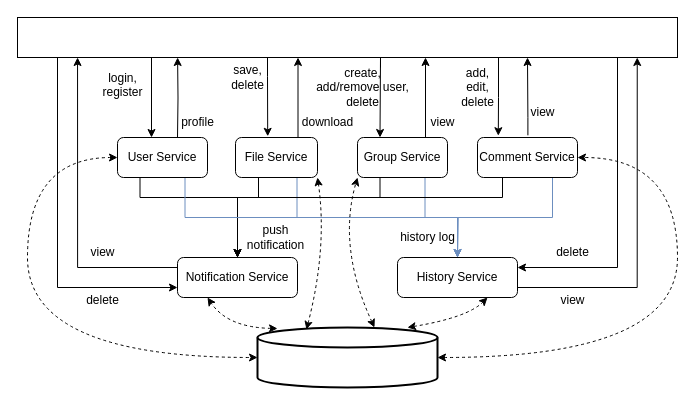
This 695x406 diagram has some shape labels left out. The shapes that lost their labels are listed below. From the top down, each one's centre as x and y in pixels, then its label:
point 347,37: User Interface
point 347,357: Data base
